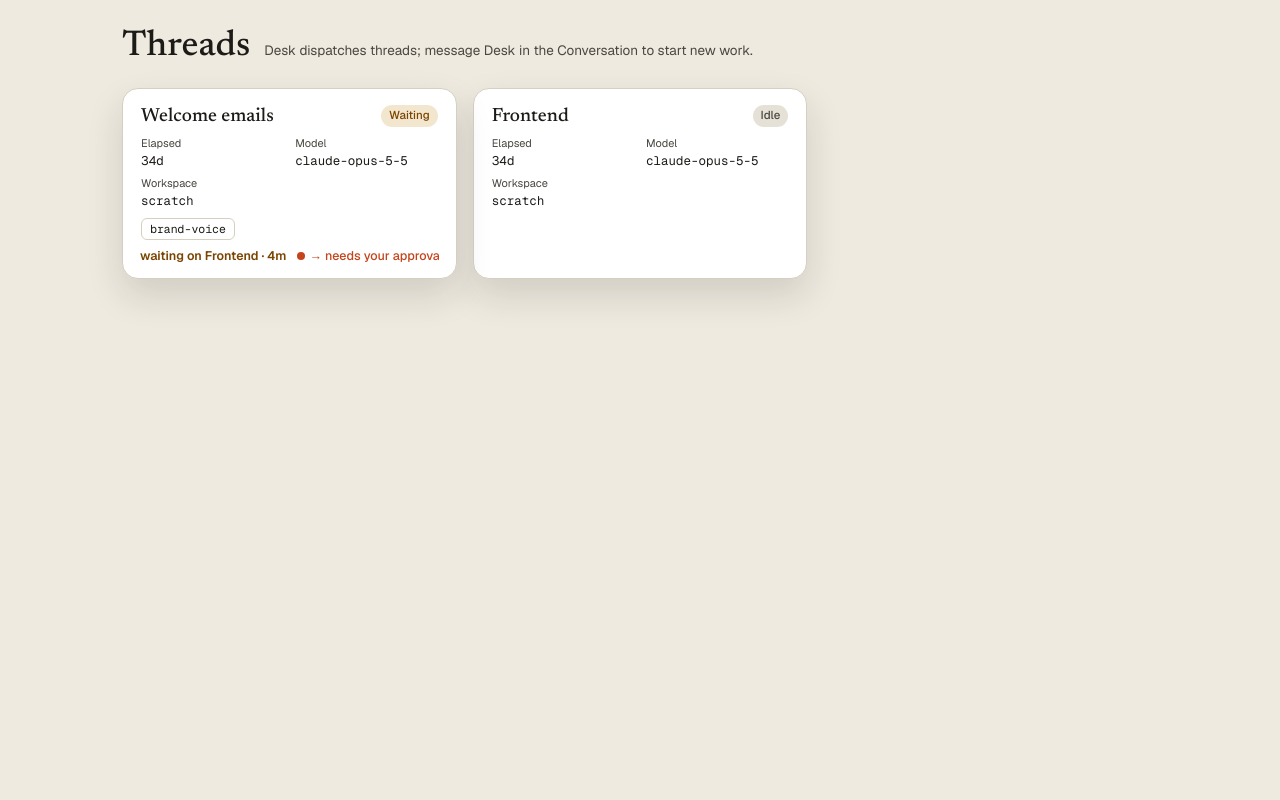
ThreadsScreen › gives a waiting thread's card its wait, which opens the pair sheet, and the hop to what needs you
This screenshot has width=1280, height=800.
Click the button "waiting on Frontend · 4m".
click(213, 256)  # box [140,247,286,265]
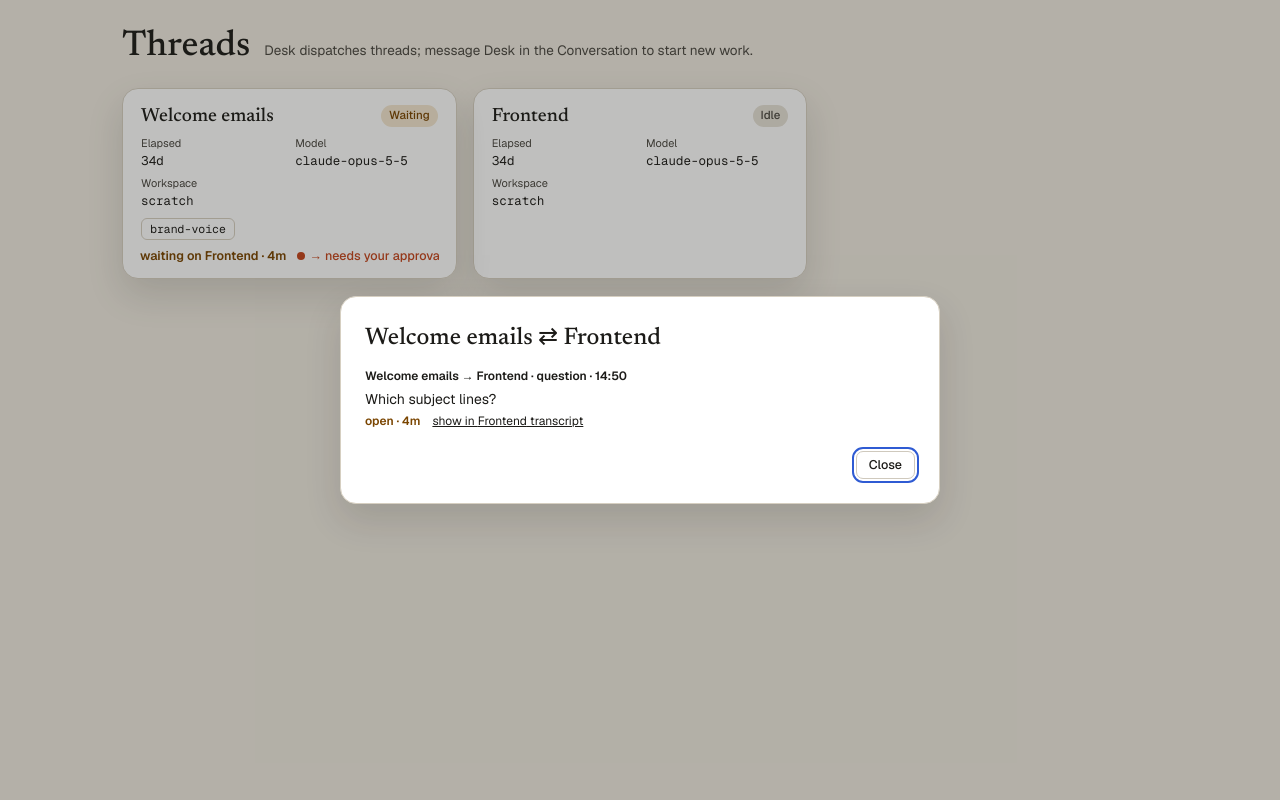
Expected: the text "Which subject lines?" is shown, [365,390,496,408]
Expected: the dialog "Welcome emails ⇄ Frontend" shows "open · 4m", [340,296,940,504]
